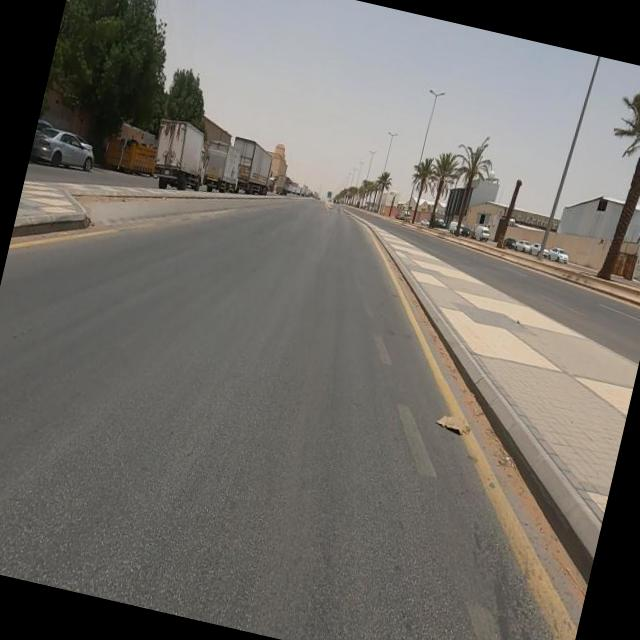debris: (381, 363, 518, 496)
